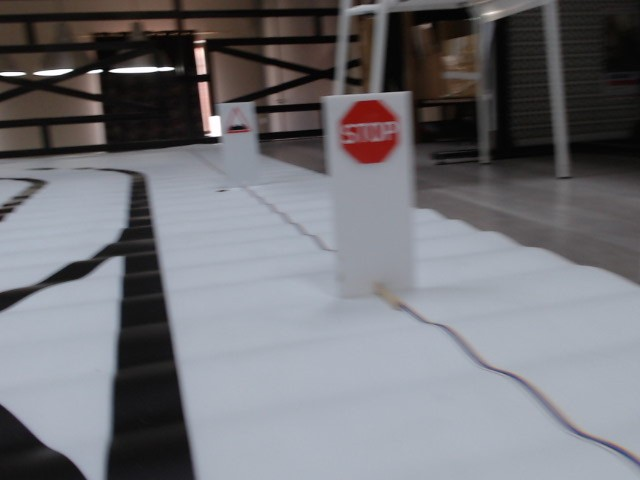Nerov: (223, 108, 253, 134)
Stop: (337, 100, 404, 166)
